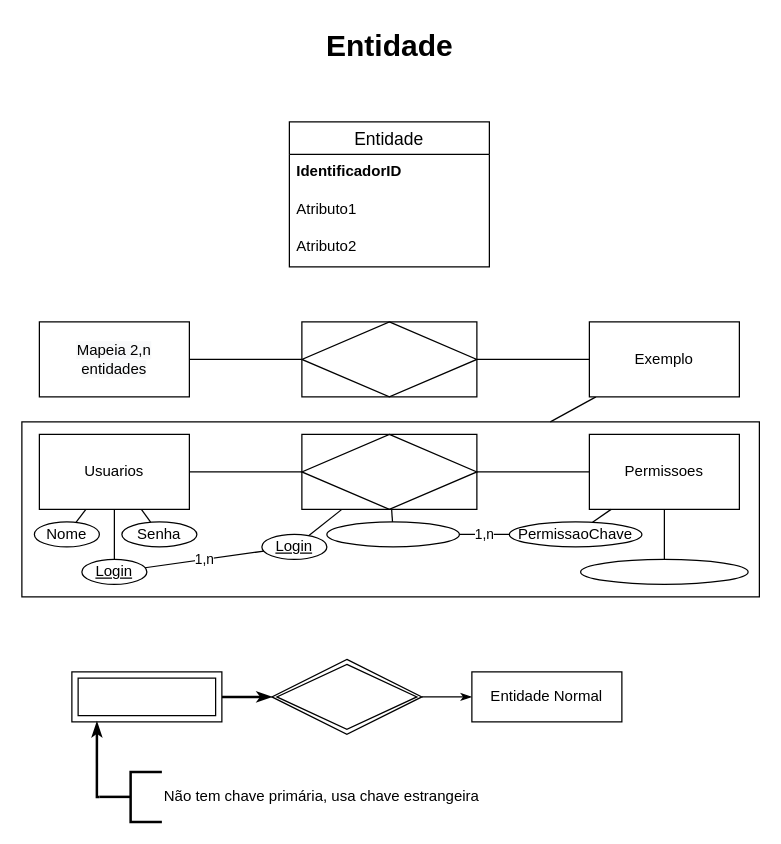
This 781x844 diagram has some shape labels left out. The shapes that lost their labels are listed below. From the top down, each one's centre as x and y in pixels, then its label:
At (x=389, y=359): "Entidade Associativa".
At (x=389, y=471): "PermissaoUsuario".
At (x=392, y=534): "ChavePermissao".
At (x=663, y=571): "PermissaoDescricao".
At (x=146, y=696): "Entidade Fraca/Identificadora".
At (x=346, y=696): "Depende".
